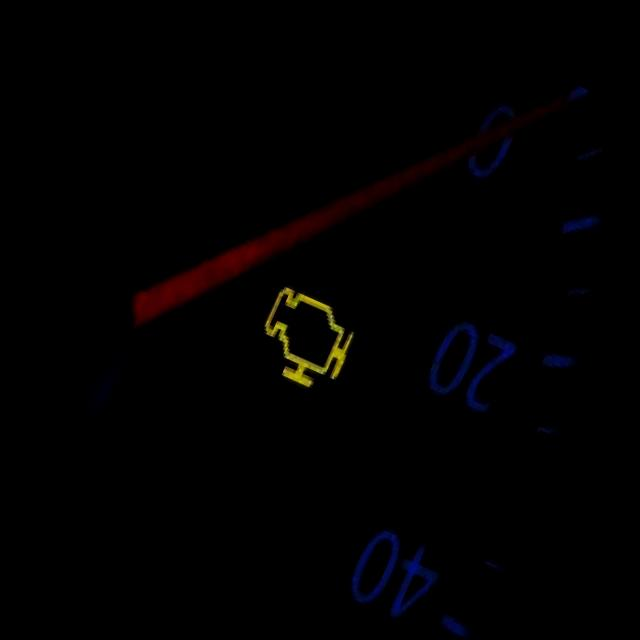kontrolka: (231, 268, 378, 418)
